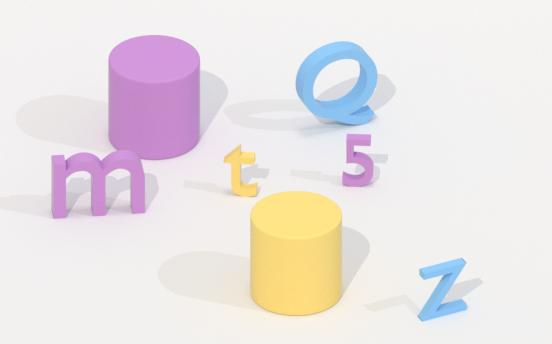5: (342, 129, 375, 191)
m: (47, 149, 153, 225)
q: (294, 39, 379, 130)
t: (221, 144, 260, 201)
tru: (244, 188, 349, 321), (103, 31, 207, 165)
z: (415, 254, 470, 325)
